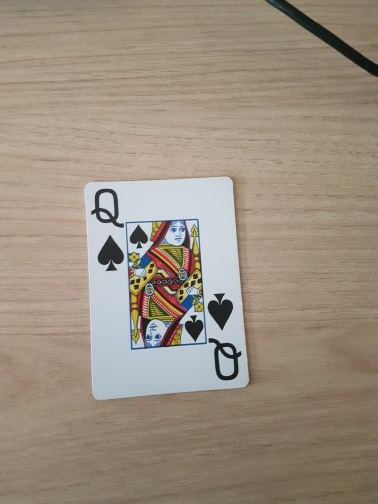queen: (85, 175, 250, 402)
